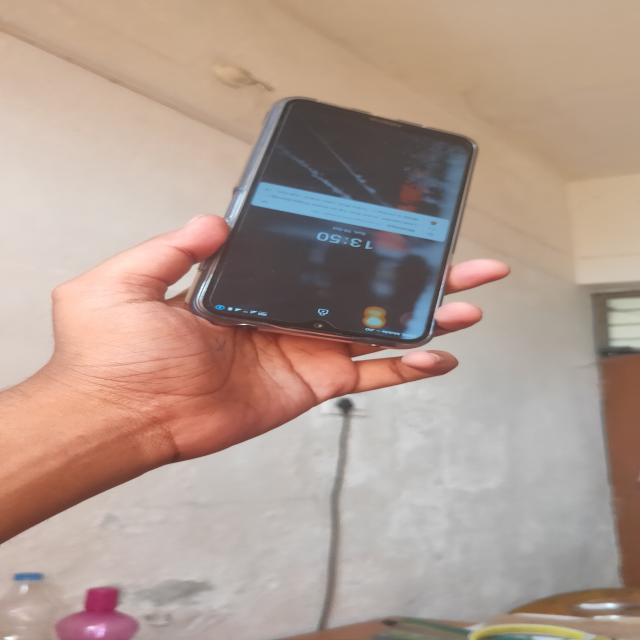Phone: (184, 92, 485, 352)
